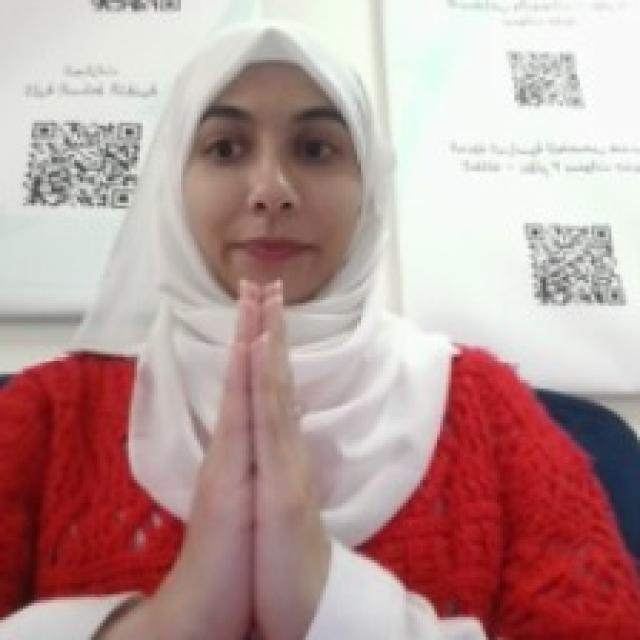sorry: (175, 280, 332, 634)
